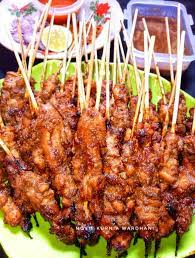sate: (1, 45, 195, 235)
